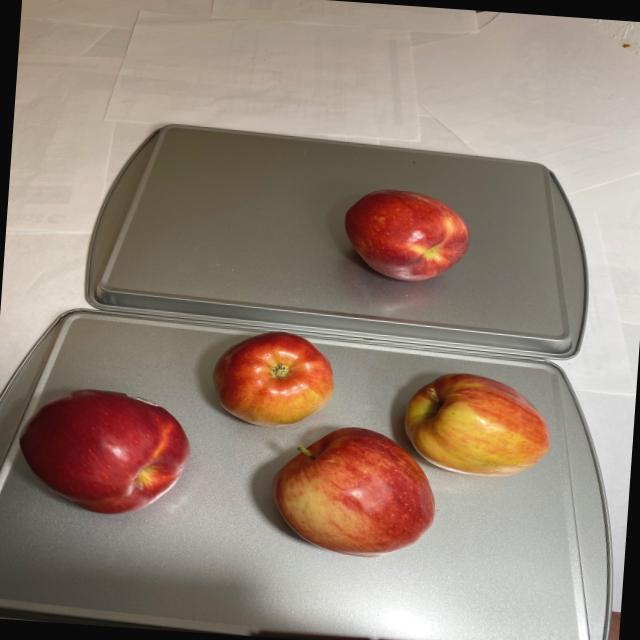apple: (6, 316, 560, 570), (334, 183, 478, 288)
